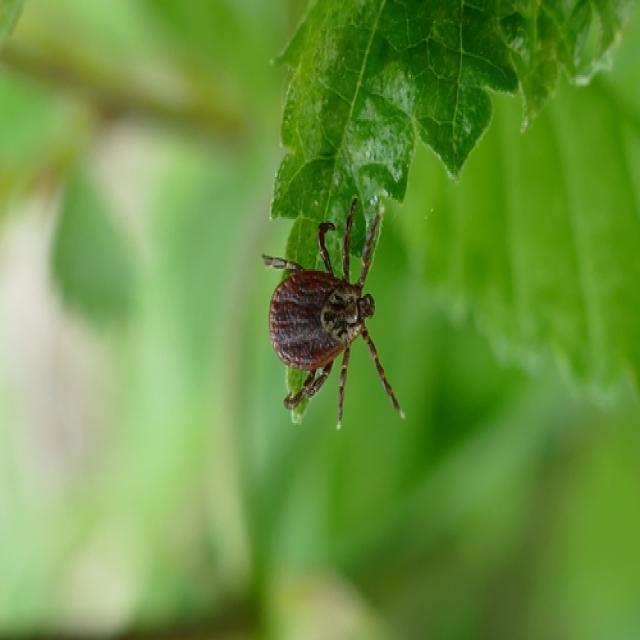Dermacentor Reticulatus-F: (261, 194, 406, 431)
